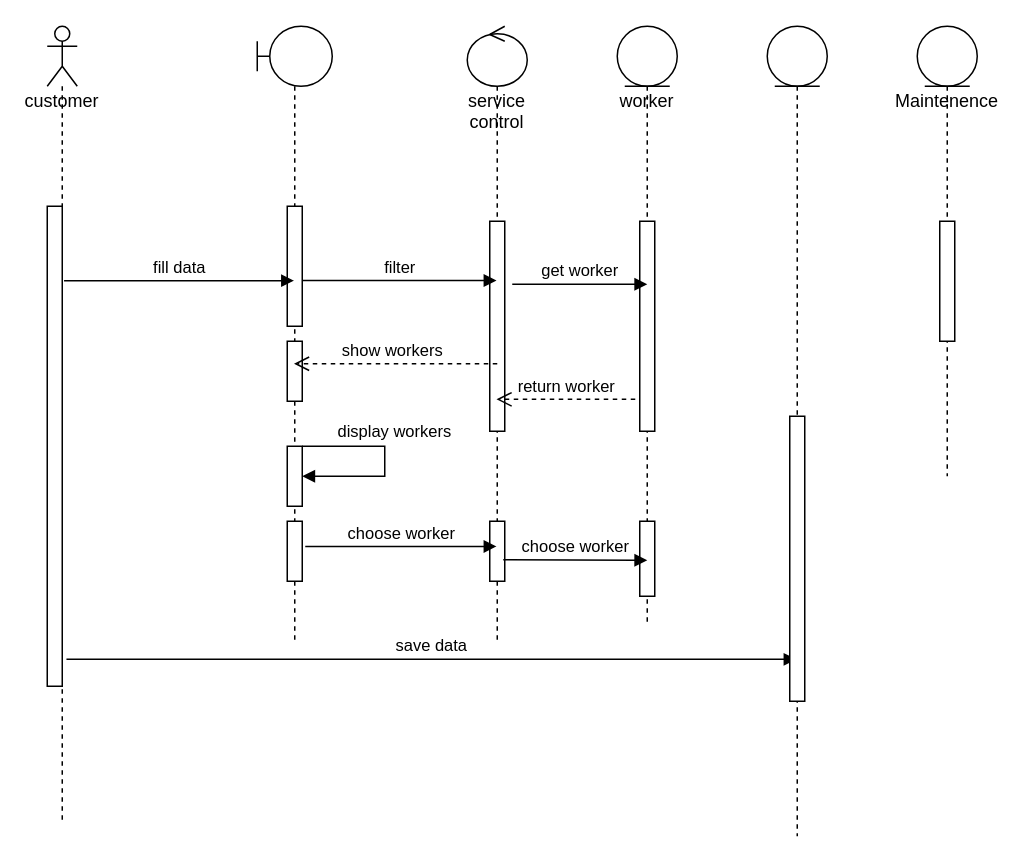
This 1025x863 diagram has some shape labels left out. Here are the shapes that lost their labels. From the top down, the centre of each, then its label:
the point at 294,333: Ask for Maintenence : main
the point at 796,430: service
